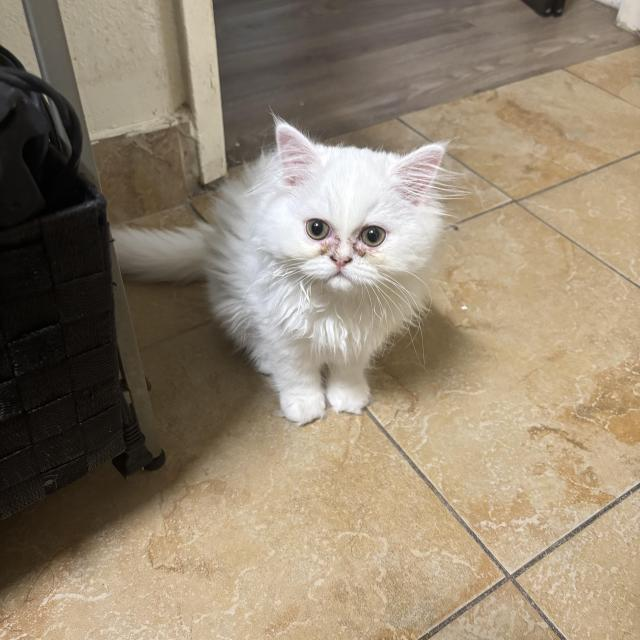persian_cat: (249, 110, 452, 302)
